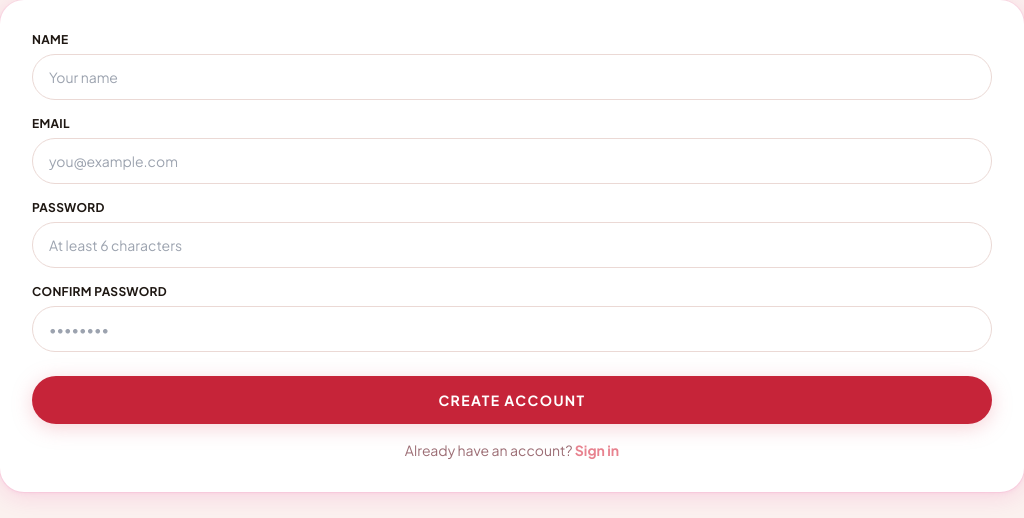
Test case: SignupForm › shows the OTP entry step when Supabase returns no session (email confirmation required)
Type "Nandini" into the field with placeholder "Your name" at (512, 77), box [32,54,992,100]
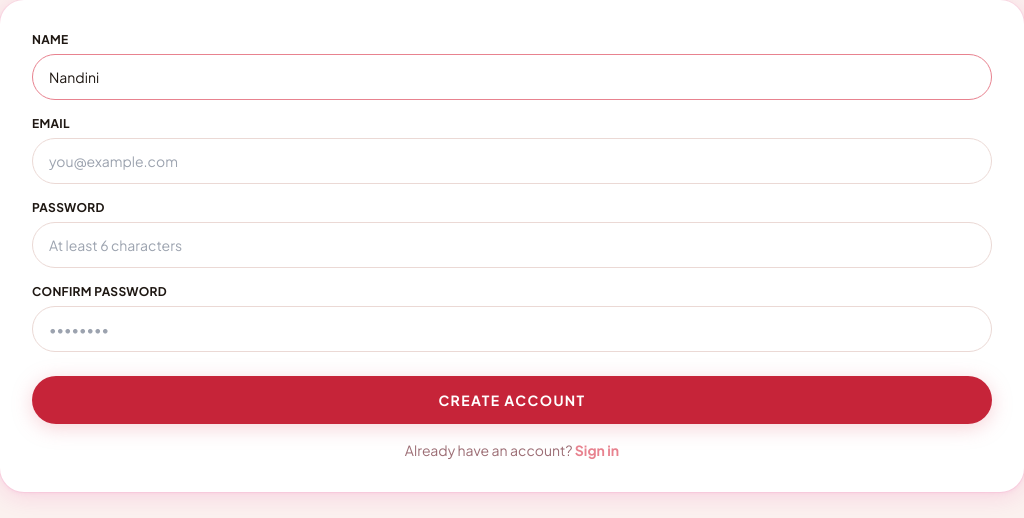
Type "nandini@charmavenue.in" into the field with placeholder "you@example.com" at (512, 161), box [32,138,992,184]
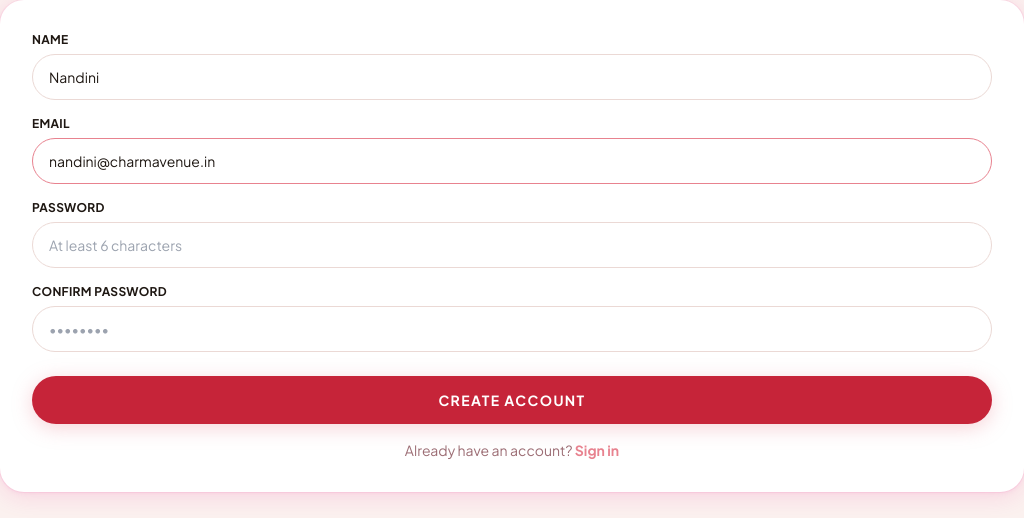
Type "secret1" into the password field with placeholder "At least 6 characters" at (512, 245), box [32,222,992,268]
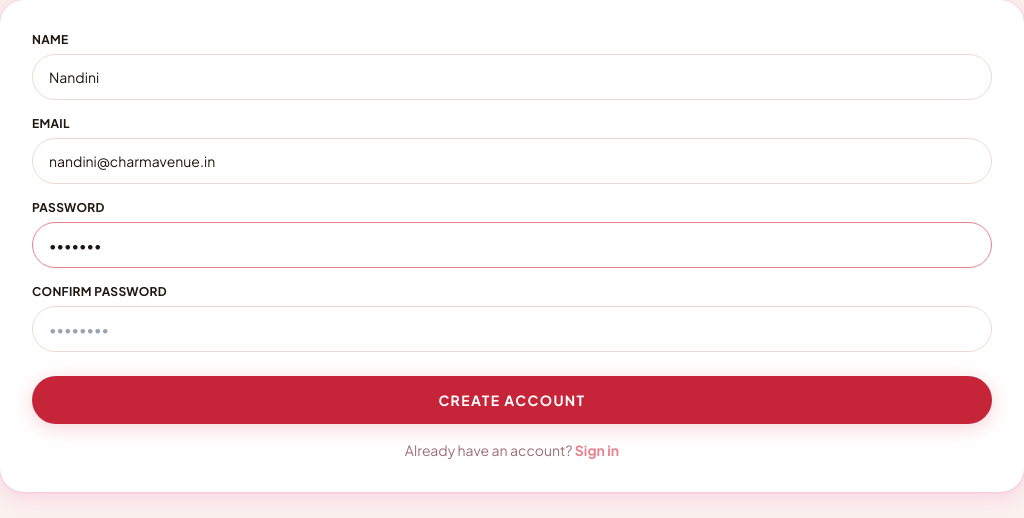
Type "secret1" into the password field with placeholder "••••••••" at (512, 329), box [32,306,992,352]
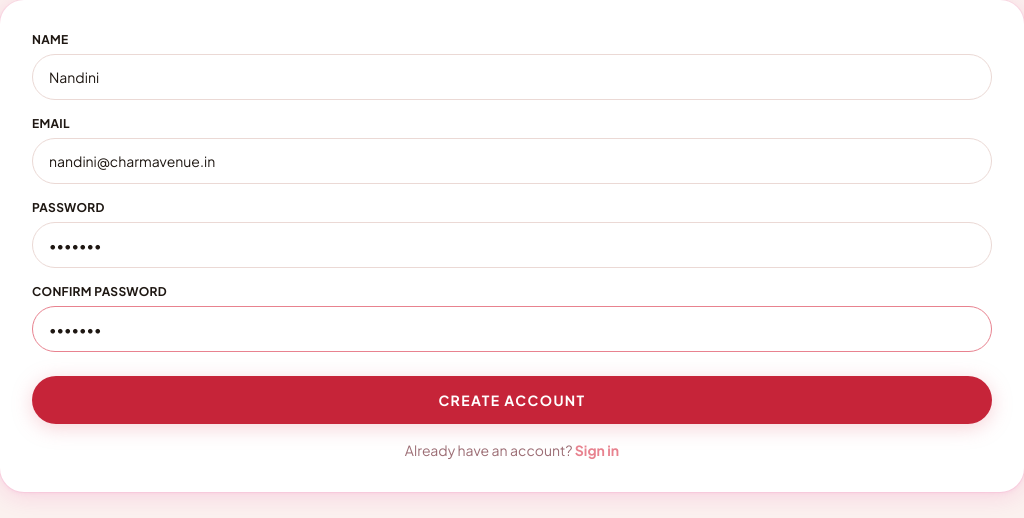
Click the button "Create Account" at (512, 400), box [32,376,992,424]
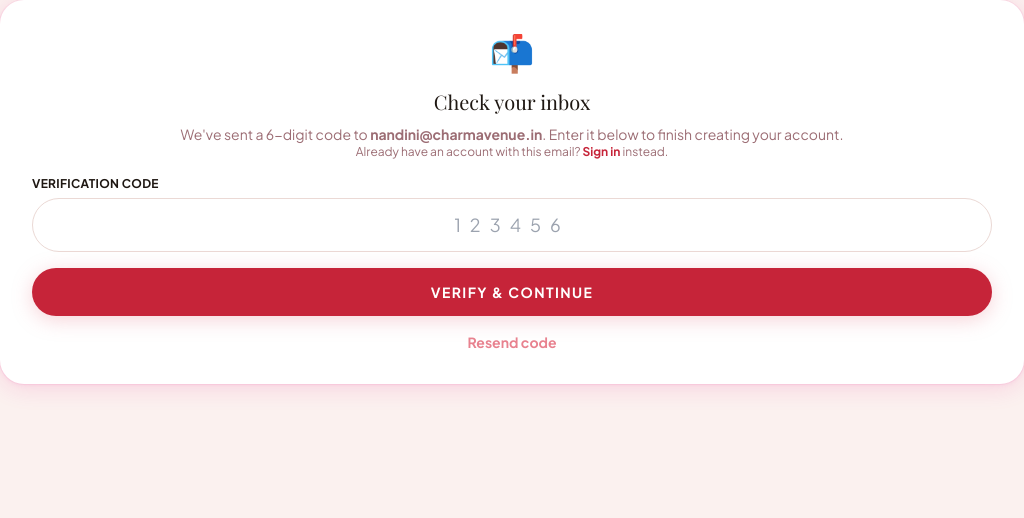
Expected: the heading "Check your inbox" is shown, [434,88,590,115]
